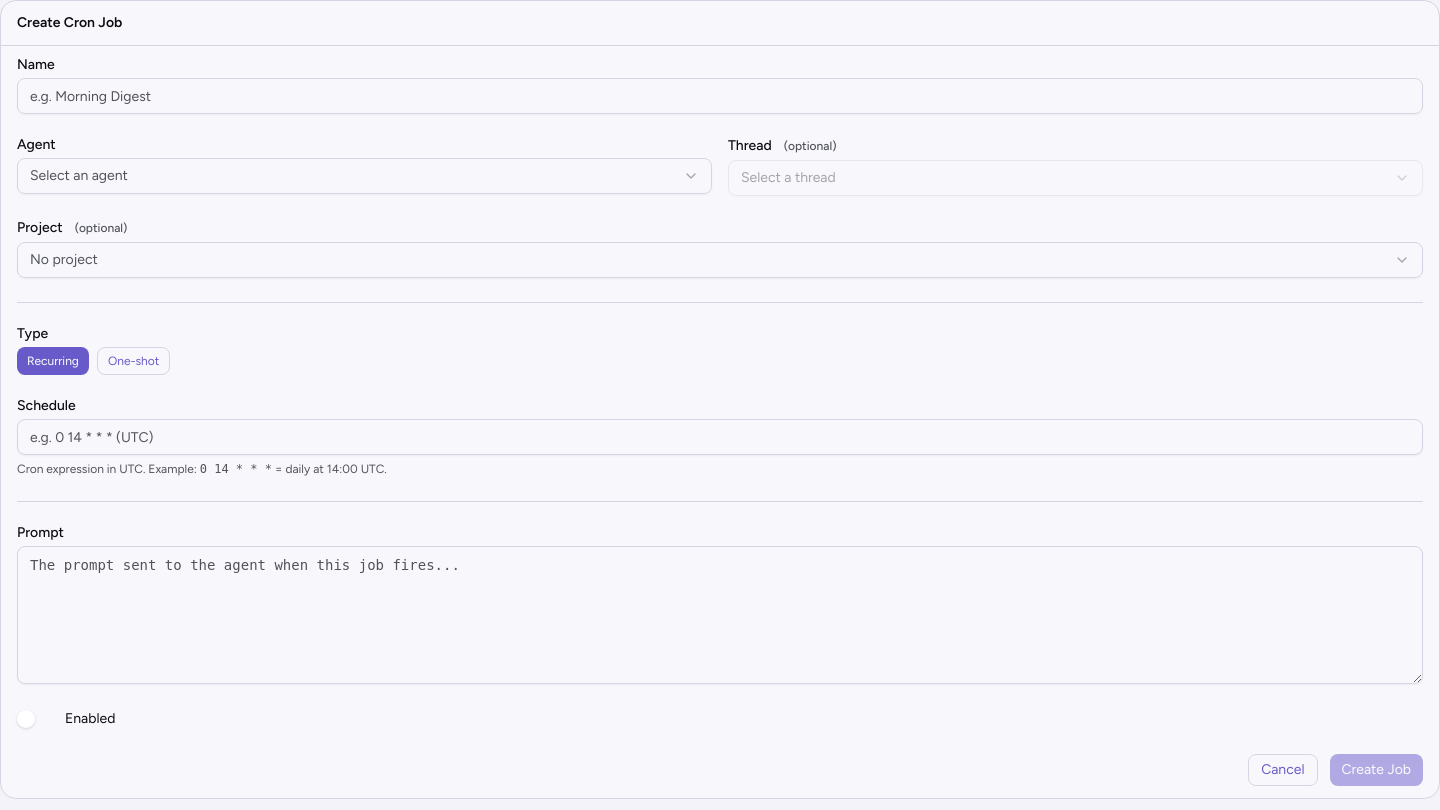
it: CronJobForm › switches back to schedule input after clicking Recurring
The width and height of the screenshot is (1440, 810).
Click the button "One-shot".
click(134, 361)  # box [97,347,170,375]
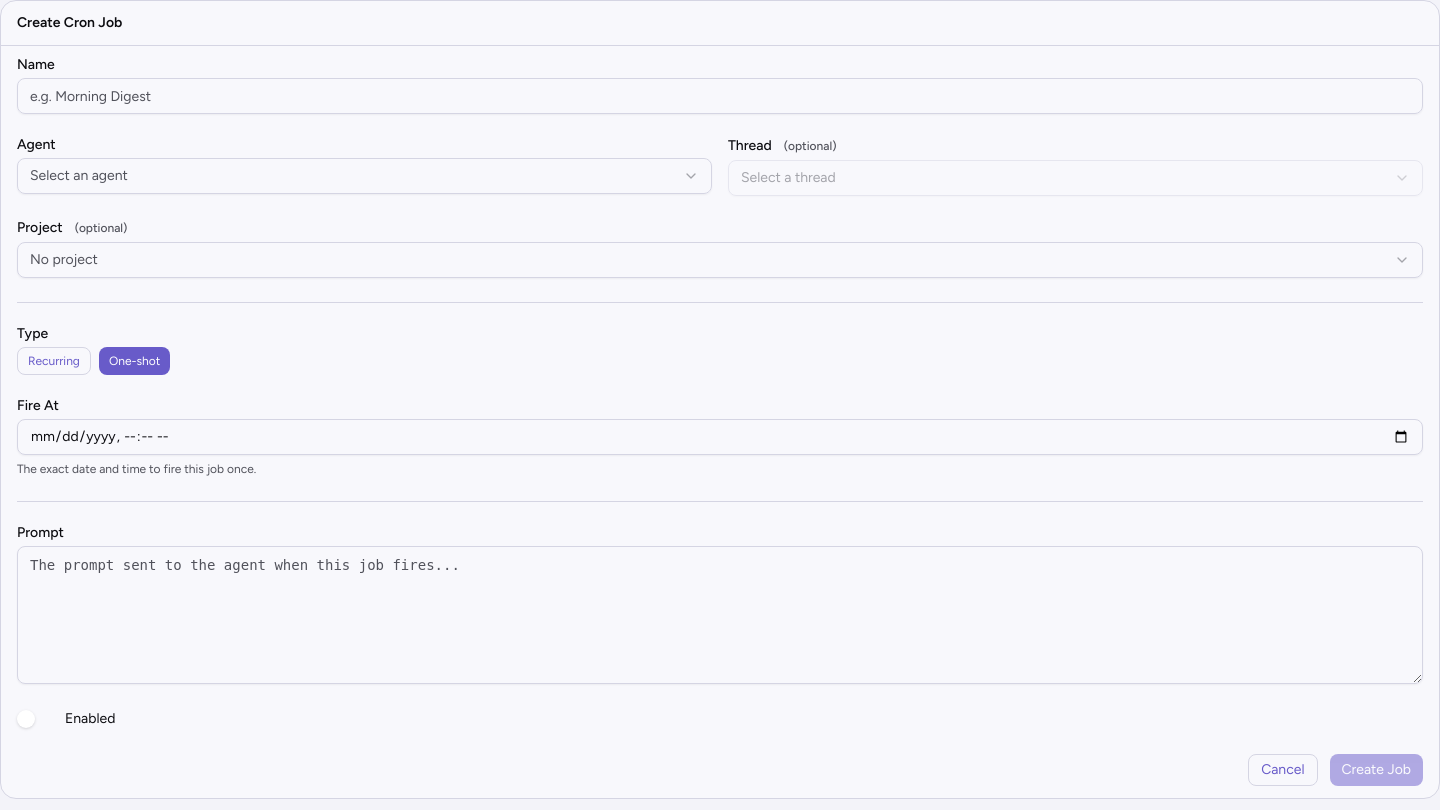
Expected: the field labelled "Fire At" is shown, [17,419,1423,455]
Click the button "Recurring".
click(54, 361)  # box [17,347,91,375]
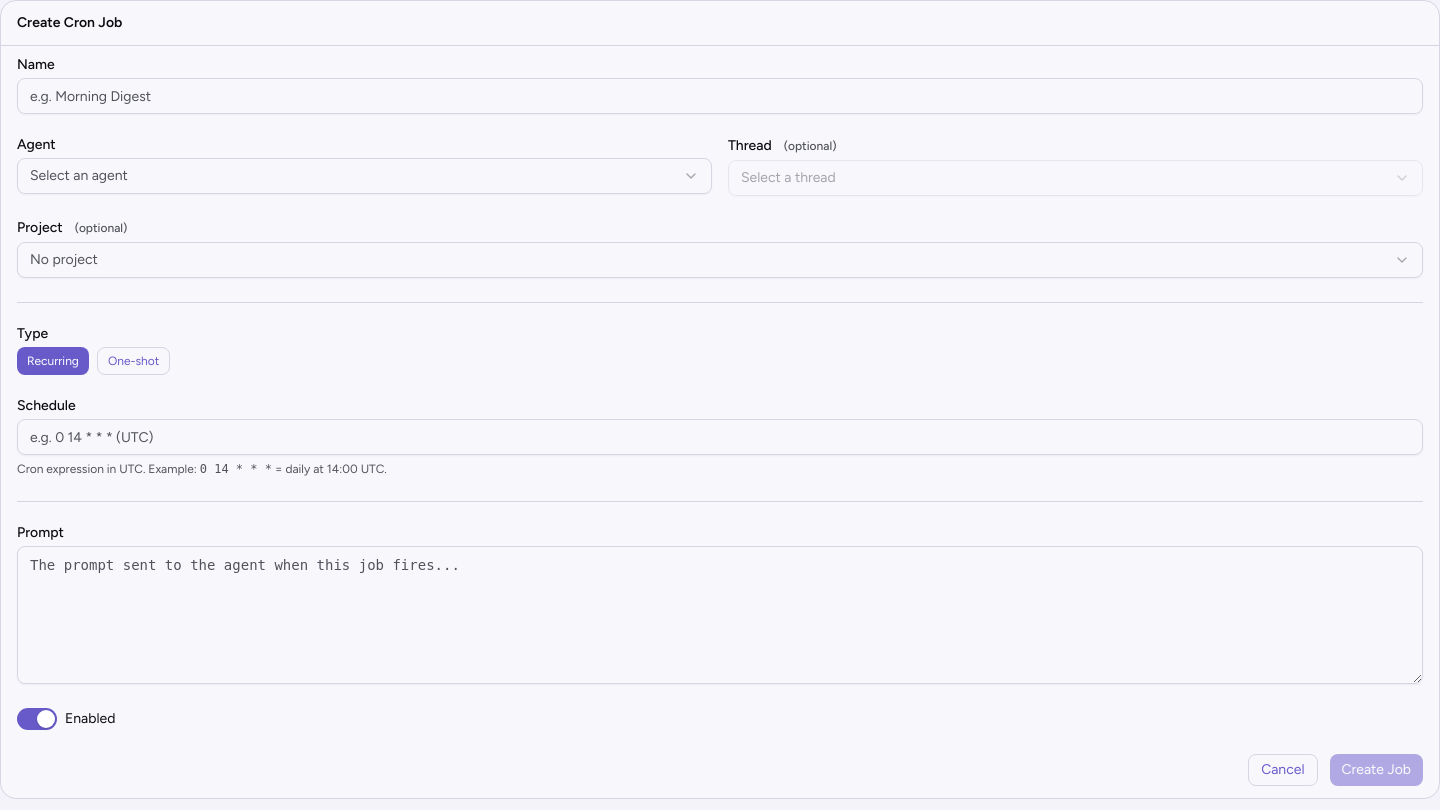
Now the field labelled "Schedule" is shown, box [17,419,1423,455]
